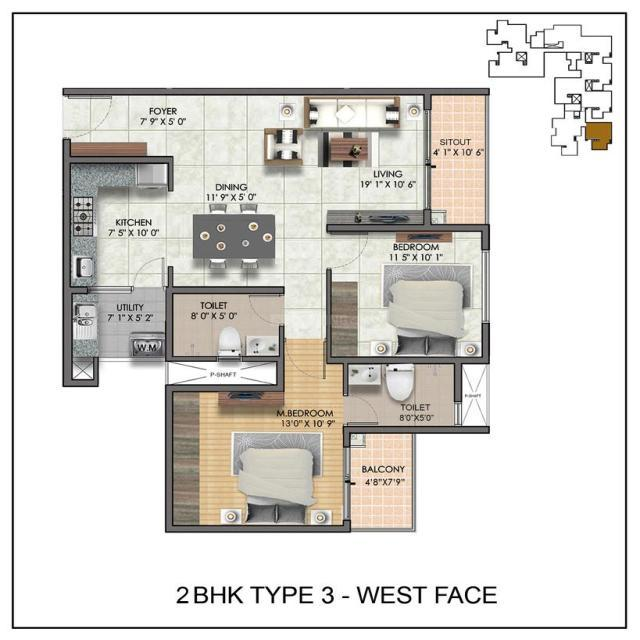Balcony-Sitout: (432, 95, 484, 223), (350, 434, 412, 531)
Bedroom: (329, 228, 482, 357)
Bedroom with Toilet: (173, 339, 459, 528)
Dining: (185, 201, 287, 277)
Enterance-Foyer: (63, 91, 203, 158)
Kitchen: (71, 164, 168, 286)
Living: (204, 95, 423, 180)
Toilet: (344, 364, 453, 426), (174, 295, 281, 356)
Utility: (73, 294, 164, 357)
